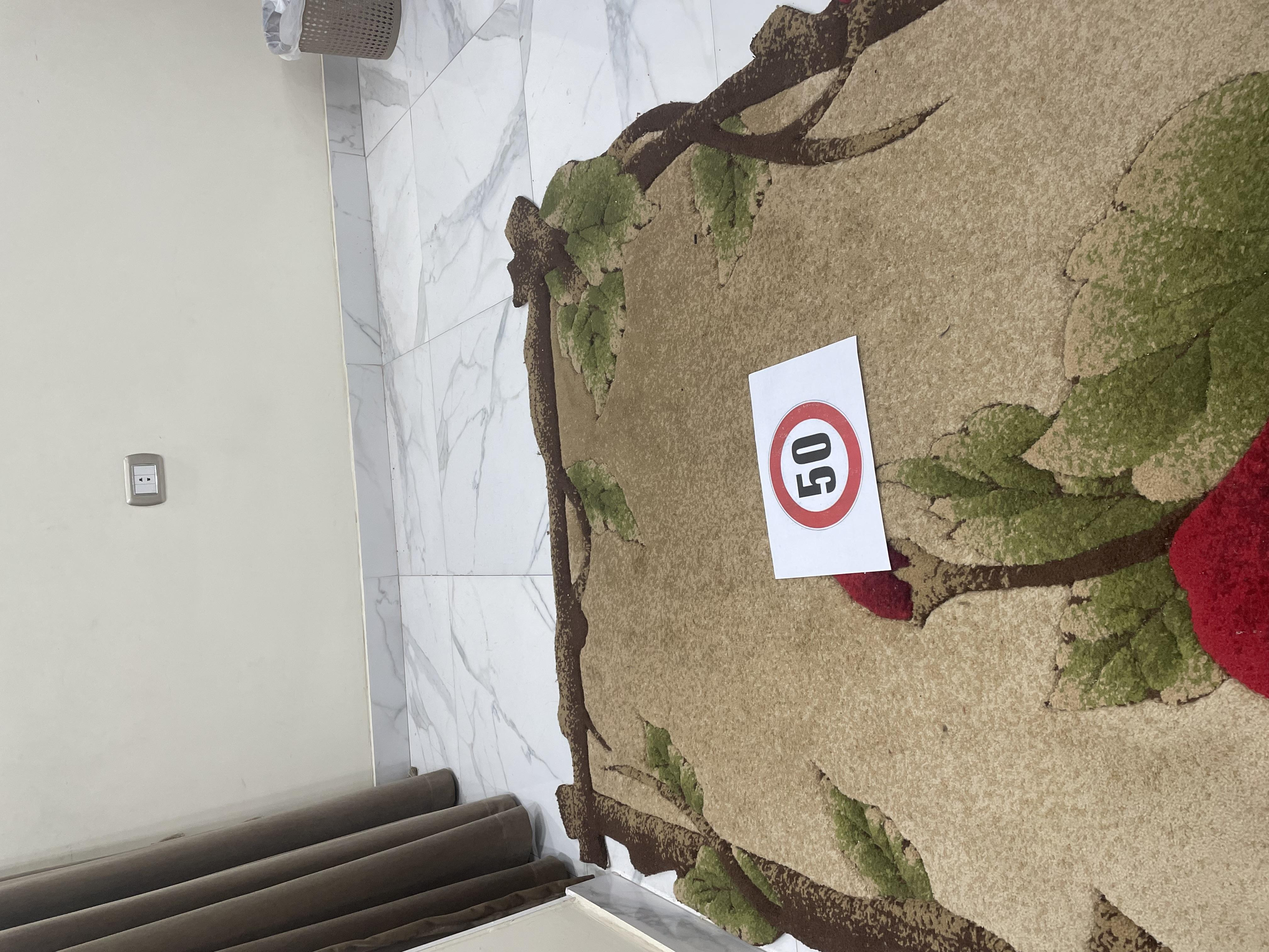50-Speed: (563, 576, 738, 647)
